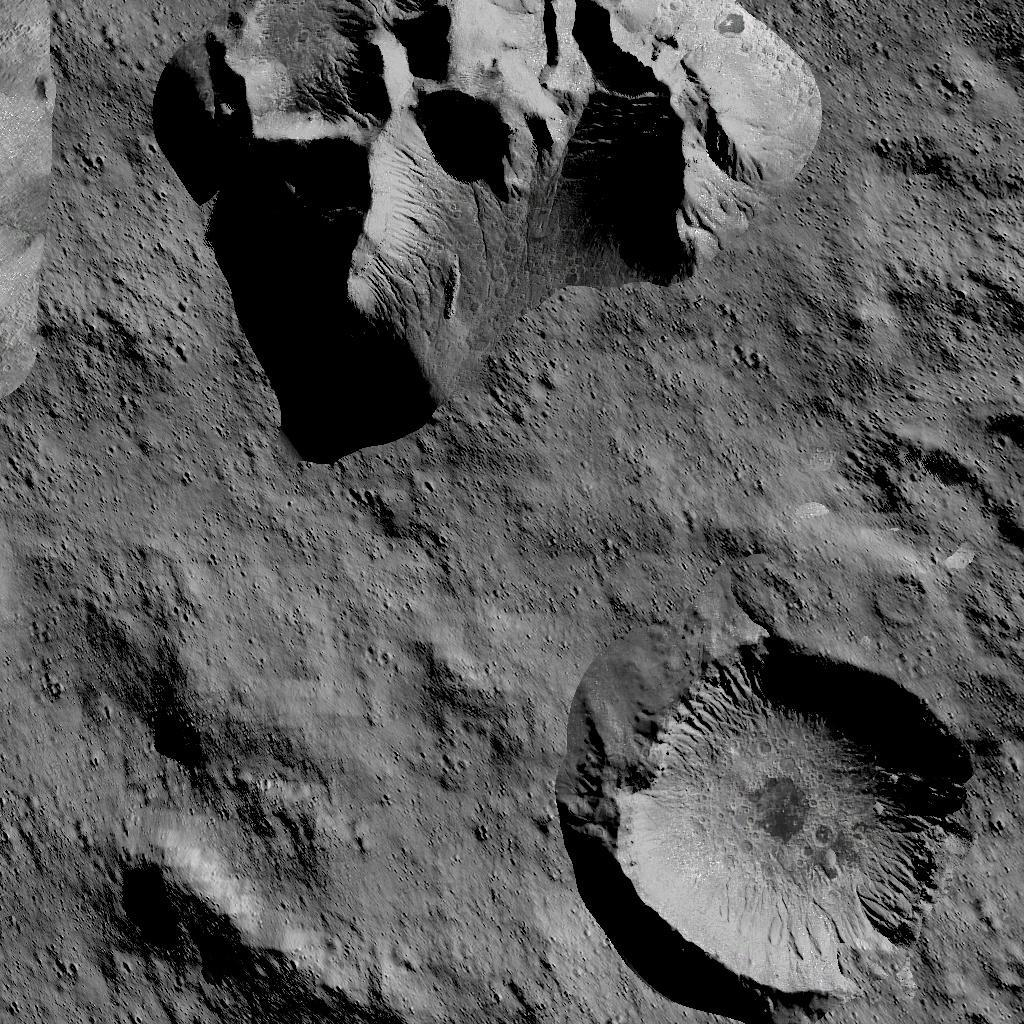Boulders: (149, 0, 825, 464), (123, 830, 406, 1024), (0, 0, 62, 408)
Crater: (563, 606, 993, 1024), (135, 678, 230, 784)
Plan surface: (245, 482, 550, 807), (841, 4, 1024, 336), (21, 480, 227, 660), (572, 480, 858, 596)
